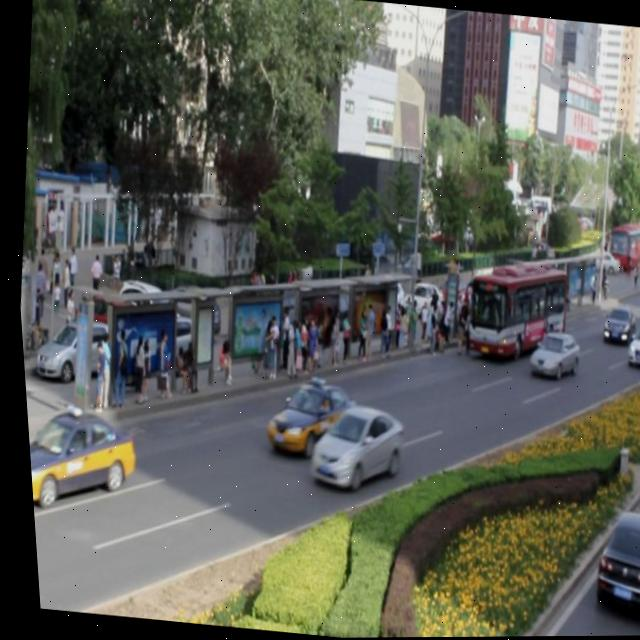car: (21, 401, 135, 513), (298, 400, 401, 491), (256, 375, 353, 460), (521, 328, 576, 379), (593, 304, 630, 346), (618, 321, 640, 371)
van: (452, 254, 565, 364)
